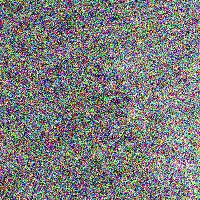rolled-in_scale: (78, 36, 141, 193)
